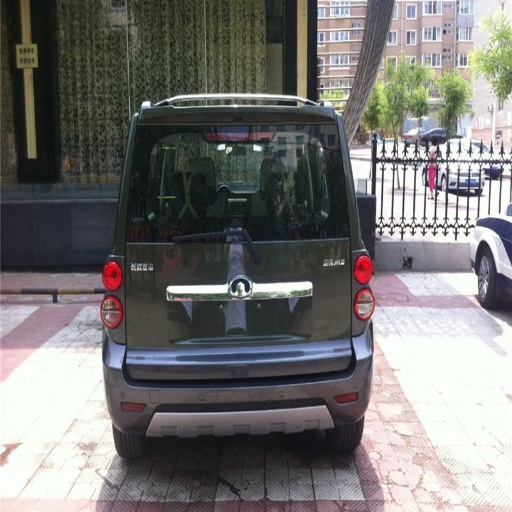back_bumper: (104, 325, 370, 437)
trunk: (118, 240, 348, 378)
